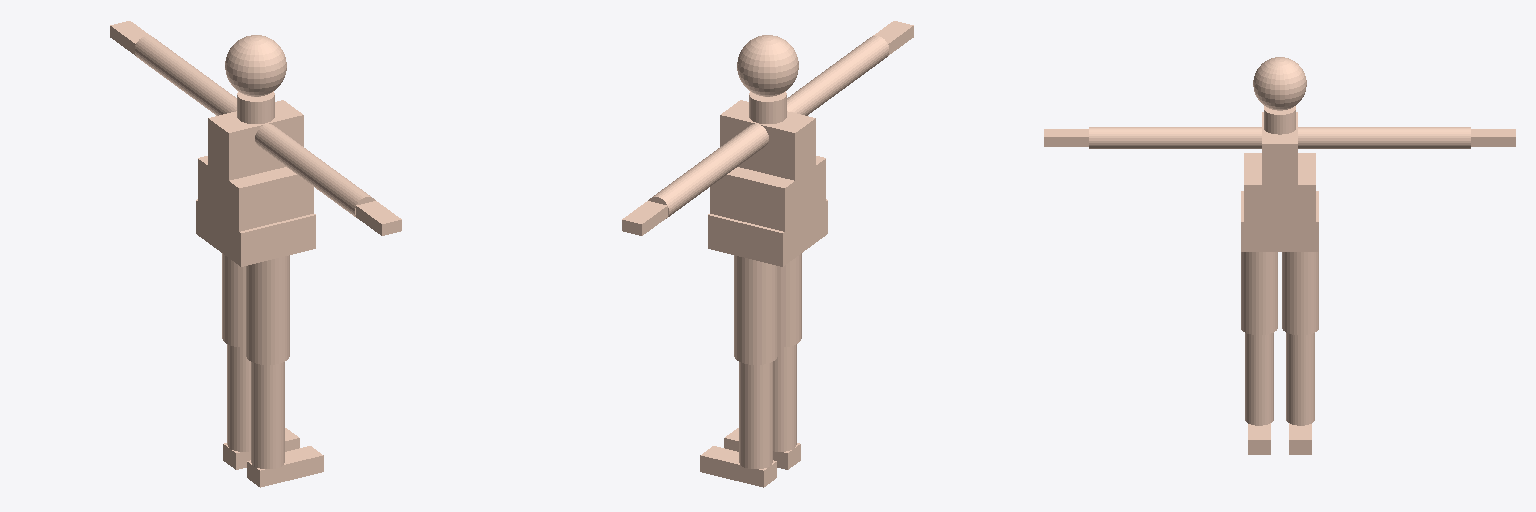
--- Facts derived from the render (not from the file) ---
Views: 3 orthographic renders of the robot side by side, from view 1: azimuth 30°, elevation 25°; view 2: azimuth 150°, elevation 25°; view 3: azimuth 270°, elevation 25°.
Model HumanModel with 93 links and 92 joints (44 revolute, 48 fixed), rooted at Pelvis, posed every joint at zero.
Links seen in each view (by area): view 1: LowerTrunk, RightUpperLeg, Pelvis, UpperTrunk, RightLowerLeg, Head, LeftLowerLeg, LeftUpperLeg, RightFoot, LeftUpperArm, RightUpperArm, RightForeArm (+6 smaller); view 2: LowerTrunk, LeftUpperLeg, Pelvis, UpperTrunk, LeftLowerLeg, Head, RightLowerLeg, RightUpperLeg, LeftFoot, RightUpperArm, LeftUpperArm, LeftForeArm (+6 smaller); view 3: LowerTrunk, RightUpperLeg, LeftUpperLeg, RightLowerLeg, LeftLowerLeg, Pelvis, Head, UpperTrunk, RightUpperArm, LeftUpperArm, RightForeArm, LeftForeArm (+5 smaller).
Link boxes in pixels (x1,y1,x2,y2): LowerTrunk: (198, 156, 313, 231); RightUpperLeg: (246, 255, 289, 364); Pelvis: (196, 199, 315, 266); UpperTrunk: (208, 100, 303, 180); RightLowerLeg: (251, 362, 284, 468); Head: (225, 35, 286, 96); LeftLowerLeg: (227, 344, 250, 451); LeftUpperLeg: (222, 253, 245, 347); RightFoot: (247, 446, 322, 487); LeftUpperArm: (169, 61, 229, 115); RightUpperArm: (276, 139, 336, 191); RightForeArm: (320, 171, 375, 218); LowerTrunk: (710, 156, 825, 231); LeftUpperLeg: (734, 255, 777, 364); Pelvis: (708, 199, 827, 266); UpperTrunk: (720, 100, 815, 180); LeftLowerLeg: (739, 362, 772, 468); Head: (737, 35, 798, 96); RightLowerLeg: (773, 344, 796, 451); RightUpperLeg: (778, 253, 801, 347); LeftFoot: (701, 446, 776, 487); RightUpperArm: (794, 61, 854, 115); LeftUpperArm: (687, 139, 747, 191); LeftForeArm: (648, 171, 703, 218); LowerTrunk: (1244, 153, 1315, 221); RightUpperLeg: (1241, 252, 1277, 334); LeftUpperLeg: (1282, 252, 1318, 334); RightLowerLeg: (1245, 333, 1273, 425); LeftLowerLeg: (1286, 333, 1314, 425); Pelvis: (1241, 191, 1318, 251); Head: (1253, 57, 1306, 110); UpperTrunk: (1262, 112, 1297, 184); RightUpperArm: (1150, 127, 1225, 148); LeftUpperArm: (1334, 127, 1409, 148); RightForeArm: (1089, 127, 1149, 148); LeftForeArm: (1410, 127, 1470, 148).
Bounding box of the posed robot: 0.3458 × 1.88 × 1.71 m (x, y, z).
Geometry: primitives only (box / cylinder / sphere), no mesh files.

robot.urdf — HumanModel:
<?xml version='1.0' encoding='UTF-8'?>
<robot name="HumanModel">
  <link name="Pelvis">
    <inertial>
      <origin xyz="0.0 0.0 0.0" rpy="0.0 0.0 0.0"/>
      <mass value="11.3568"/>
      <inertia ixx="0.10967187230999999" ixy="0.0" ixz="0.0" iyy="0.10085187621599999" iyz="0.0" izz="0.179171996094"/>
    </inertial>
    <visual>
      <geometry>
        <box size="0.3     0.31515 0.1287 "/>
      </geometry>
      <material name="color"/>
      <origin xyz="0.0 0.0 0.0" rpy="0.0 0.0 0.0"/>
    </visual>
    <collision>
      <geometry>
        <box size="0.3     0.31515 0.1287 "/>
      </geometry>
      <origin xyz="0.0 0.0 0.0" rpy="0.0 0.0 0.0"/>
    </collision>
  </link>
  <link name="LowerTrunk_f1">
    <inertial>
      <origin xyz="0.0 0.0 0.0" rpy="0.0 0.0 0.0"/>
      <mass value="1e-05"/>
      <inertia ixx="0.0" ixy="0.0" ixz="0.0" iyy="0.0" iyz="0.0" izz="0.0"/>
    </inertial>
  </link>
  <link name="LowerTrunk">
    <inertial>
      <origin xyz="0.0 0.0 0.0825" rpy="0.0 0.0 0.0"/>
      <mass value="14.8704"/>
      <inertia ixx="0.135880027272" ixy="0.0" ixz="0.0" iyy="0.14526522" iyz="0.0" izz="0.21367080727199997"/>
    </inertial>
    <visual>
      <geometry>
        <box size="0.3    0.2871 0.165 "/>
      </geometry>
      <material name="color"/>
      <origin xyz="0.0 0.0 0.0825" rpy="0.0 0.0 0.0"/>
    </visual>
    <collision>
      <geometry>
        <box size="0.3    0.2871 0.165 "/>
      </geometry>
      <origin xyz="0.0 0.0 0.0825" rpy="0.0 0.0 0.0"/>
    </collision>
  </link>
  <link name="UpperTrunk_f1">
    <inertial>
      <origin xyz="0.0 0.0 0.0" rpy="0.0 0.0 0.0"/>
      <mass value="1e-05"/>
      <inertia ixx="0.0" ixy="0.0" ixz="0.0" iyy="0.0" iyz="0.0" izz="0.0"/>
    </inertial>
  </link>
  <link name="UpperTrunk_f2">
    <inertial>
      <origin xyz="0.0 0.0 0.0" rpy="0.0 0.0 0.0"/>
      <mass value="1e-05"/>
      <inertia ixx="0.0" ixy="0.0" ixz="0.0" iyy="0.0" iyz="0.0" izz="0.0"/>
    </inertial>
  </link>
  <link name="UpperTrunk">
    <inertial>
      <origin xyz="0.0 0.0 0.09075" rpy="0.0 0.0 0.0"/>
      <mass value="5.0207999999999995"/>
      <inertia ixx="0.022273211245999996" ixy="0.0" ixz="0.0" iyy="0.05143903739999999" iyz="0.0" izz="0.04614617384599999"/>
    </inertial>
    <visual>
      <geometry>
        <box size="0.3     0.14245 0.1815 "/>
      </geometry>
      <material name="color"/>
      <origin xyz="0.0 0.0 0.09075" rpy="0.0 0.0 0.0"/>
    </visual>
    <collision>
      <geometry>
        <box size="0.3     0.14245 0.1815 "/>
      </geometry>
      <origin xyz="0.0 0.0 0.09075" rpy="0.0 0.0 0.0"/>
    </collision>
  </link>
  <link name="RightShoulder">
    <inertial>
      <origin xyz="0.0 -0.071225 0.0" rpy="1.5708 0.0 0.0"/>
      <mass value="5.0207999999999995"/>
      <inertia ixx="0.011031953845999998" ixy="0.0" ixz="0.0" iyy="0.011031953845999998" iyz="0.0" izz="0.01"/>
    </inertial>
    <visual>
      <geometry>
        <cylinder radius="0.045" length="0.14245"/>
      </geometry>
      <material name="color"/>
      <origin xyz="0.0 -0.071225 0.0" rpy="1.5708 0.0 0.0"/>
    </visual>
    <collision>
      <geometry>
        <cylinder radius="0.045" length="0.14245"/>
      </geometry>
      <origin xyz="0.0 -0.071225 0.0" rpy="1.5708 0.0 0.0"/>
    </collision>
  </link>
  <link name="LeftShoulder">
    <inertial>
      <origin xyz="0.0 0.071225 0.0" rpy="1.5708 0.0 0.0"/>
      <mass value="5.0207999999999995"/>
      <inertia ixx="0.011031953845999998" ixy="0.0" ixz="0.0" iyy="0.011031953845999998" iyz="0.0" izz="0.01"/>
    </inertial>
    <visual>
      <geometry>
        <cylinder radius="0.045" length="0.14245"/>
      </geometry>
      <material name="color"/>
      <origin xyz="0.0 0.071225 0.0" rpy="1.5708 0.0 0.0"/>
    </visual>
    <collision>
      <geometry>
        <cylinder radius="0.045" length="0.14245"/>
      </geometry>
      <origin xyz="0.0 0.071225 0.0" rpy="1.5708 0.0 0.0"/>
    </collision>
  </link>
  <link name="Neck_f1">
    <inertial>
      <origin xyz="0.0 0.0 0.0" rpy="0.0 0.0 0.0"/>
      <mass value="1e-05"/>
      <inertia ixx="0.0" ixy="0.0" ixz="0.0" iyy="0.0" iyz="0.0" izz="0.0"/>
    </inertial>
  </link>
  <link name="Neck_f2">
    <inertial>
      <origin xyz="0.0 0.0 0.0" rpy="0.0 0.0 0.0"/>
      <mass value="1e-05"/>
      <inertia ixx="0.0" ixy="0.0" ixz="0.0" iyy="0.0" iyz="0.0" izz="0.0"/>
    </inertial>
  </link>
  <link name="Neck">
    <inertial>
      <origin xyz="0.0 0.0 0.042899999999999994" rpy="0.0 0.0 0.0"/>
      <mass value="1.8624"/>
      <inertia ixx="0.01" ixy="0.0" ixz="0.0" iyy="0.01" iyz="0.0" izz="0.01"/>
    </inertial>
    <visual>
      <geometry>
        <cylinder radius="0.065" length="0.08579999999999999"/>
      </geometry>
      <material name="color"/>
      <origin xyz="0.0 0.0 0.042899999999999994" rpy="0.0 0.0 0.0"/>
    </visual>
    <collision>
      <geometry>
        <cylinder radius="0.065" length="0.08579999999999999"/>
      </geometry>
      <origin xyz="0.0 0.0 0.042899999999999994" rpy="0.0 0.0 0.0"/>
    </collision>
  </link>
  <link name="Head_f1">
    <inertial>
      <origin xyz="0.0 0.0 0.0" rpy="0.0 0.0 0.0"/>
      <mass value="1e-05"/>
      <inertia ixx="0.0" ixy="0.0" ixz="0.0" iyy="0.0" iyz="0.0" izz="0.0"/>
    </inertial>
  </link>
  <link name="Head">
    <inertial>
      <origin xyz="0.0 0.0 0.10725" rpy="0.0 0.0 0.0"/>
      <mass value="4.6752"/>
      <inertia ixx="0.02151071208" ixy="0.0" ixz="0.0" iyy="0.02151071208" iyz="0.0" izz="0.02151071208"/>
    </inertial>
    <visual>
      <geometry>
        <sphere radius="0.10725"/>
      </geometry>
      <material name="color"/>
      <origin xyz="0.0 0.0 0.10725" rpy="0.0 0.0 0.0"/>
    </visual>
    <collision>
      <geometry>
        <sphere radius="0.10725"/>
      </geometry>
      <origin xyz="0.0 0.0 0.10725" rpy="0.0 0.0 0.0"/>
    </collision>
  </link>
  <link name="RightShoulder_f1">
    <inertial>
      <origin xyz="0.0 0.0 0.0" rpy="0.0 0.0 0.0"/>
      <mass value="1e-05"/>
      <inertia ixx="0.0" ixy="0.0" ixz="0.0" iyy="0.0" iyz="0.0" izz="0.0"/>
    </inertial>
  </link>
  <link name="RightShoulder_f2">
    <inertial>
      <origin xyz="0.0 0.0 0.0" rpy="0.0 0.0 0.0"/>
      <mass value="1e-05"/>
      <inertia ixx="0.0" ixy="0.0" ixz="0.0" iyy="0.0" iyz="0.0" izz="0.0"/>
    </inertial>
  </link>
  <link name="RightUpperArm">
    <inertial>
      <origin xyz="0.0 -0.15345 0.0" rpy="1.5708 0.0 0.0"/>
      <mass value="2.5248"/>
      <inertia ixx="0.021095253143999997" ixy="0.0" ixz="0.0" iyy="0.021095253143999997" iyz="0.0" izz="0.01"/>
    </inertial>
    <visual>
      <geometry>
        <cylinder radius="0.045" length="0.3069"/>
      </geometry>
      <material name="color"/>
      <origin xyz="0.0 -0.15345 0.0" rpy="1.5708 0.0 0.0"/>
    </visual>
    <collision>
      <geometry>
        <cylinder radius="0.045" length="0.3069"/>
      </geometry>
      <origin xyz="0.0 -0.15345 0.0" rpy="1.5708 0.0 0.0"/>
    </collision>
  </link>
  <link name="RightForeArm_f1">
    <inertial>
      <origin xyz="0.0 0.0 0.0" rpy="0.0 0.0 0.0"/>
      <mass value="1e-05"/>
      <inertia ixx="0.0" ixy="0.0" ixz="0.0" iyy="0.0" iyz="0.0" izz="0.0"/>
    </inertial>
  </link>
  <link name="RightForeArm">
    <inertial>
      <origin xyz="0.0 -0.12044999999999999 0.0" rpy="1.5708 0.0 0.0"/>
      <mass value="1.44"/>
      <inertia ixx="0.01" ixy="0.0" ixz="0.0" iyy="0.01" iyz="0.0" izz="0.01"/>
    </inertial>
    <visual>
      <geometry>
        <cylinder radius="0.045" length="0.24089999999999998"/>
      </geometry>
      <material name="color"/>
      <origin xyz="0.0 -0.12044999999999999 0.0" rpy="1.5708 0.0 0.0"/>
    </visual>
    <collision>
      <geometry>
        <cylinder radius="0.045" length="0.24089999999999998"/>
      </geometry>
      <origin xyz="0.0 -0.12044999999999999 0.0" rpy="1.5708 0.0 0.0"/>
    </collision>
  </link>
  <link name="RightHand_f1">
    <inertial>
      <origin xyz="0.0 0.0 0.0" rpy="0.0 0.0 0.0"/>
      <mass value="1e-05"/>
      <inertia ixx="0.0" ixy="0.0" ixz="0.0" iyy="0.0" iyz="0.0" izz="0.0"/>
    </inertial>
  </link>
  <link name="RightHand">
    <inertial>
      <origin xyz="0.0 -0.0891 0.0" rpy="0.0 0.0 0.0"/>
      <mass value="0.5664"/>
      <inertia ixx="0.01" ixy="0.0" ixz="0.0" iyy="0.01" iyz="0.0" izz="0.01"/>
    </inertial>
    <visual>
      <geometry>
        <box size="0.08   0.1782 0.045 "/>
      </geometry>
      <material name="color"/>
      <origin xyz="0.0 -0.0891 0.0" rpy="0.0 0.0 0.0"/>
    </visual>
    <collision>
      <geometry>
        <box size="0.08   0.1782 0.045 "/>
      </geometry>
      <origin xyz="0.0 -0.0891 0.0" rpy="0.0 0.0 0.0"/>
    </collision>
  </link>
  <link name="RightHandCOM">
    <inertial>
      <origin xyz="0.0 0.0 0.0" rpy="0.0 0.0 0.0"/>
      <mass value="1e-05"/>
      <inertia ixx="0.0" ixy="0.0" ixz="0.0" iyy="0.0" iyz="0.0" izz="0.0"/>
    </inertial>
    <visual>
      <geometry>
        <box size="0. 0. 0."/>
      </geometry>
      <material name="color"/>
      <origin xyz="0.0 0.0 0.0" rpy="0.0 0.0 0.0"/>
    </visual>
  </link>
  <link name="LeftShoulder_f1">
    <inertial>
      <origin xyz="0.0 0.0 0.0" rpy="0.0 0.0 0.0"/>
      <mass value="1e-05"/>
      <inertia ixx="0.0" ixy="0.0" ixz="0.0" iyy="0.0" iyz="0.0" izz="0.0"/>
    </inertial>
  </link>
  <link name="LeftShoulder_f2">
    <inertial>
      <origin xyz="0.0 0.0 0.0" rpy="0.0 0.0 0.0"/>
      <mass value="1e-05"/>
      <inertia ixx="0.0" ixy="0.0" ixz="0.0" iyy="0.0" iyz="0.0" izz="0.0"/>
    </inertial>
  </link>
  <link name="LeftUpperArm">
    <inertial>
      <origin xyz="0.0 0.15345 0.0" rpy="1.5708 0.0 0.0"/>
      <mass value="2.5248"/>
      <inertia ixx="0.021095253143999997" ixy="0.0" ixz="0.0" iyy="0.021095253143999997" iyz="0.0" izz="0.01"/>
    </inertial>
    <visual>
      <geometry>
        <cylinder radius="0.045" length="0.3069"/>
      </geometry>
      <material name="color"/>
      <origin xyz="0.0 0.15345 0.0" rpy="1.5708 0.0 0.0"/>
    </visual>
    <collision>
      <geometry>
        <cylinder radius="0.045" length="0.3069"/>
      </geometry>
      <origin xyz="0.0 0.15345 0.0" rpy="1.5708 0.0 0.0"/>
    </collision>
  </link>
  <link name="LeftForeArm_f1">
    <inertial>
      <origin xyz="0.0 0.0 0.0" rpy="0.0 0.0 0.0"/>
      <mass value="1e-05"/>
      <inertia ixx="0.0" ixy="0.0" ixz="0.0" iyy="0.0" iyz="0.0" izz="0.0"/>
    </inertial>
  </link>
  <link name="LeftForeArm">
    <inertial>
      <origin xyz="0.0 0.12044999999999999 0.0" rpy="1.5708 0.0 0.0"/>
      <mass value="1.44"/>
      <inertia ixx="0.01" ixy="0.0" ixz="0.0" iyy="0.01" iyz="0.0" izz="0.01"/>
    </inertial>
    <visual>
      <geometry>
        <cylinder radius="0.045" length="0.24089999999999998"/>
      </geometry>
      <material name="color"/>
      <origin xyz="0.0 0.12044999999999999 0.0" rpy="1.5708 0.0 0.0"/>
    </visual>
    <collision>
      <geometry>
        <cylinder radius="0.045" length="0.24089999999999998"/>
      </geometry>
      <origin xyz="0.0 0.12044999999999999 0.0" rpy="1.5708 0.0 0.0"/>
    </collision>
  </link>
  <link name="LeftHand_f1">
    <inertial>
      <origin xyz="0.0 0.0 0.0" rpy="0.0 0.0 0.0"/>
      <mass value="1e-05"/>
      <inertia ixx="0.0" ixy="0.0" ixz="0.0" iyy="0.0" iyz="0.0" izz="0.0"/>
    </inertial>
  </link>
  <link name="LeftHand">
    <inertial>
      <origin xyz="0.0 0.0891 0.0" rpy="0.0 0.0 0.0"/>
      <mass value="0.5664"/>
      <inertia ixx="0.01" ixy="0.0" ixz="0.0" iyy="0.01" iyz="0.0" izz="0.01"/>
    </inertial>
    <visual>
      <geometry>
        <box size="0.08   0.1782 0.045 "/>
      </geometry>
      <material name="color"/>
      <origin xyz="0.0 0.0891 0.0" rpy="0.0 0.0 0.0"/>
    </visual>
    <collision>
      <geometry>
        <box size="0.08   0.1782 0.045 "/>
      </geometry>
      <origin xyz="0.0 0.0891 0.0" rpy="0.0 0.0 0.0"/>
    </collision>
  </link>
  <link name="LeftHandCOM">
    <inertial>
      <origin xyz="0.0 0.0 0.0" rpy="0.0 0.0 0.0"/>
      <mass value="1e-05"/>
      <inertia ixx="0.0" ixy="0.0" ixz="0.0" iyy="0.0" iyz="0.0" izz="0.0"/>
    </inertial>
    <visual>
      <geometry>
        <box size="0. 0. 0."/>
      </geometry>
      <material name="color"/>
      <origin xyz="0.0 0.0 0.0" rpy="0.0 0.0 0.0"/>
    </visual>
  </link>
  <link name="RightUpperLeg_f1">
    <inertial>
      <origin xyz="0.0 0.0 0.0" rpy="0.0 0.0 0.0"/>
      <mass value="1e-05"/>
      <inertia ixx="0.0" ixy="0.0" ixz="0.0" iyy="0.0" iyz="0.0" izz="0.0"/>
    </inertial>
  </link>
  <link name="RightUpperLeg_f2">
    <inertial>
      <origin xyz="0.0 0.0 0.0" rpy="0.0 0.0 0.0"/>
      <mass value="1e-05"/>
      <inertia ixx="0.0" ixy="0.0" ixz="0.0" iyy="0.0" iyz="0.0" izz="0.0"/>
    </inertial>
  </link>
  <link name="RightUpperLeg">
    <inertial>
      <origin xyz="0.0 0.0 -0.202125" rpy="0.0 0.0 0.0"/>
      <mass value="13.8912"/>
      <inertia ixx="0.20870724914999997" ixy="0.0" ixz="0.0" iyy="0.20870724914999997" iyz="0.0" izz="0.039069"/>
    </inertial>
    <visual>
      <geometry>
        <cylinder radius="0.075" length="0.40425"/>
      </geometry>
      <material name="color"/>
      <origin xyz="0.0 0.0 -0.202125" rpy="0.0 0.0 0.0"/>
    </visual>
    <collision>
      <geometry>
        <cylinder radius="0.075" length="0.40425"/>
      </geometry>
      <origin xyz="0.0 0.0 -0.202125" rpy="0.0 0.0 0.0"/>
    </collision>
  </link>
  <link name="RightLowerLeg_f1">
    <inertial>
      <origin xyz="0.0 0.0 0.0" rpy="0.0 0.0 0.0"/>
      <mass value="1e-05"/>
      <inertia ixx="0.0" ixy="0.0" ixz="0.0" iyy="0.0" iyz="0.0" izz="0.0"/>
    </inertial>
  </link>
  <link name="RightLowerLeg">
    <inertial>
      <origin xyz="0.0 0.0 -0.20295" rpy="0.0 0.0 0.0"/>
      <mass value="4.3872"/>
      <inertia ixx="0.063860653536" ixy="0.0" ixz="0.0" iyy="0.063860653536" iyz="0.0" izz="0.01"/>
    </inertial>
    <visual>
      <geometry>
        <cylinder radius="0.0575" length="0.4059"/>
      </geometry>
      <material name="color"/>
      <origin xyz="0.0 0.0 -0.20295" rpy="0.0 0.0 0.0"/>
    </visual>
    <collision>
      <geometry>
        <cylinder radius="0.0575" length="0.4059"/>
      </geometry>
      <origin xyz="0.0 0.0 -0.20295" rpy="0.0 0.0 0.0"/>
    </collision>
  </link>
  <link name="RightFoot_f1">
    <inertial>
      <origin xyz="0.0 0.0 0.0" rpy="0.0 0.0 0.0"/>
      <mass value="1e-05"/>
      <inertia ixx="0.0" ixy="0.0" ixz="0.0" iyy="0.0" iyz="0.0" izz="0.0"/>
    </inertial>
  </link>
  <link name="RightFoot_f2">
    <inertial>
      <origin xyz="0.0 0.0 0.0" rpy="0.0 0.0 0.0"/>
      <mass value="1e-05"/>
      <inertia ixx="0.0" ixy="0.0" ixz="0.0" iyy="0.0" iyz="0.0" izz="0.0"/>
    </inertial>
  </link>
  <link name="RightFoot">
    <inertial>
      <origin xyz="0.06789999999999999 0.0 -0.032174999999999995" rpy="0.0 0.0 0.0"/>
      <mass value="1.264032"/>
      <inertia ixx="0.01" ixy="0.0" ixz="0.0" iyy="0.01" iyz="0.0" izz="0.01"/>
    </inertial>
    <visual>
      <geometry>
        <box size="0.2508  0.09075 0.06435"/>
      </geometry>
      <material name="color"/>
      <origin xyz="0.06789999999999999 0.0 -0.032174999999999995" rpy="0.0 0.0 0.0"/>
    </visual>
    <collision>
      <geometry>
        <box size="0.2508  0.09075 0.06435"/>
      </geometry>
      <origin xyz="0.06789999999999999 0.0 -0.032174999999999995" rpy="0.0 0.0 0.0"/>
    </collision>
  </link>
  <link name="RightToe">
    <inertial>
      <origin xyz="0.0 0.0 0.0" rpy="0.0 0.0 0.0"/>
      <mass value="0.012768"/>
      <inertia ixx="0.01" ixy="0.0" ixz="0.0" iyy="0.01" iyz="0.0" izz="0.01"/>
    </inertial>
    <visual>
      <geometry>
        <box size="0.002508 0.09075  0.06435 "/>
      </geometry>
      <material name="color"/>
      <origin xyz="0.0 0.0 0.0" rpy="0.0 0.0 0.0"/>
    </visual>
    <collision>
      <geometry>
        <box size="0.002508 0.09075  0.06435 "/>
      </geometry>
      <origin xyz="0.0 0.0 0.0" rpy="0.0 0.0 0.0"/>
    </collision>
  </link>
  <link name="RightFTSensor">
    <inertial>
      <origin xyz="0.0 0.0 0.0" rpy="0.0 0.0 0.0"/>
      <mass value="1e-05"/>
      <inertia ixx="0.0" ixy="0.0" ixz="0.0" iyy="0.0" iyz="0.0" izz="0.0"/>
    </inertial>
    <visual>
      <geometry>
        <box size="0. 0. 0."/>
      </geometry>
      <material name="color"/>
      <origin xyz="0.0 0.0 0.0" rpy="0.0 0.0 0.0"/>
    </visual>
  </link>
  <link name="LeftUpperLeg_f1">
    <inertial>
      <origin xyz="0.0 0.0 0.0" rpy="0.0 0.0 0.0"/>
      <mass value="1e-05"/>
      <inertia ixx="0.0" ixy="0.0" ixz="0.0" iyy="0.0" iyz="0.0" izz="0.0"/>
    </inertial>
  </link>
  <link name="LeftUpperLeg_f2">
    <inertial>
      <origin xyz="0.0 0.0 0.0" rpy="0.0 0.0 0.0"/>
      <mass value="1e-05"/>
      <inertia ixx="0.0" ixy="0.0" ixz="0.0" iyy="0.0" iyz="0.0" izz="0.0"/>
    </inertial>
  </link>
  <link name="LeftUpperLeg">
    <inertial>
      <origin xyz="0.0 0.0 -0.202125" rpy="0.0 0.0 0.0"/>
      <mass value="13.8912"/>
      <inertia ixx="0.20870724914999997" ixy="0.0" ixz="0.0" iyy="0.20870724914999997" iyz="0.0" izz="0.039069"/>
    </inertial>
    <visual>
      <geometry>
        <cylinder radius="0.075" length="0.40425"/>
      </geometry>
      <material name="color"/>
      <origin xyz="0.0 0.0 -0.202125" rpy="0.0 0.0 0.0"/>
    </visual>
    <collision>
      <geometry>
        <cylinder radius="0.075" length="0.40425"/>
      </geometry>
      <origin xyz="0.0 0.0 -0.202125" rpy="0.0 0.0 0.0"/>
    </collision>
  </link>
  <link name="LeftLowerLeg_f1">
    <inertial>
      <origin xyz="0.0 0.0 0.0" rpy="0.0 0.0 0.0"/>
      <mass value="1e-05"/>
      <inertia ixx="0.0" ixy="0.0" ixz="0.0" iyy="0.0" iyz="0.0" izz="0.0"/>
    </inertial>
  </link>
  <link name="LeftLowerLeg">
    <inertial>
      <origin xyz="0.0 0.0 -0.20295" rpy="0.0 0.0 0.0"/>
      <mass value="4.3872"/>
      <inertia ixx="0.063860653536" ixy="0.0" ixz="0.0" iyy="0.063860653536" iyz="0.0" izz="0.01"/>
    </inertial>
    <visual>
      <geometry>
        <cylinder radius="0.0575" length="0.4059"/>
      </geometry>
      <material name="color"/>
      <origin xyz="0.0 0.0 -0.20295" rpy="0.0 0.0 0.0"/>
    </visual>
    <collision>
      <geometry>
        <cylinder radius="0.0575" length="0.4059"/>
      </geometry>
      <origin xyz="0.0 0.0 -0.20295" rpy="0.0 0.0 0.0"/>
    </collision>
  </link>
  <link name="LeftFoot_f1">
    <inertial>
      <origin xyz="0.0 0.0 0.0" rpy="0.0 0.0 0.0"/>
      <mass value="1e-05"/>
      <inertia ixx="0.0" ixy="0.0" ixz="0.0" iyy="0.0" iyz="0.0" izz="0.0"/>
    </inertial>
  </link>
  <link name="LeftFoot_f2">
    <inertial>
      <origin xyz="0.0 0.0 0.0" rpy="0.0 0.0 0.0"/>
      <mass value="1e-05"/>
      <inertia ixx="0.0" ixy="0.0" ixz="0.0" iyy="0.0" iyz="0.0" izz="0.0"/>
    </inertial>
  </link>
  <link name="LeftFoot">
    <inertial>
      <origin xyz="0.06789999999999999 0.0 -0.032174999999999995" rpy="0.0 0.0 0.0"/>
      <mass value="1.264032"/>
      <inertia ixx="0.01" ixy="0.0" ixz="0.0" iyy="0.01" iyz="0.0" izz="0.01"/>
    </inertial>
    <visual>
      <geometry>
        <box size="0.2508  0.09075 0.06435"/>
      </geometry>
      <material name="color"/>
      <origin xyz="0.06789999999999999 0.0 -0.032174999999999995" rpy="0.0 0.0 0.0"/>
    </visual>
    <collision>
      <geometry>
        <box size="0.2508  0.09075 0.06435"/>
      </geometry>
      <origin xyz="0.06789999999999999 0.0 -0.032174999999999995" rpy="0.0 0.0 0.0"/>
    </collision>
  </link>
  <link name="LeftToe">
    <inertial>
      <origin xyz="0.0 0.0 0.0" rpy="0.0 0.0 0.0"/>
      <mass value="0.012768"/>
      <inertia ixx="0.01" ixy="0.0" ixz="0.0" iyy="0.01" iyz="0.0" izz="0.01"/>
    </inertial>
    <visual>
      <geometry>
        <box size="0.002508 0.09075  0.06435 "/>
      </geometry>
      <material name="color"/>
      <origin xyz="0.0 0.0 0.0" rpy="0.0 0.0 0.0"/>
    </visual>
    <collision>
      <geometry>
        <box size="0.002508 0.09075  0.06435 "/>
      </geometry>
      <origin xyz="0.0 0.0 0.0" rpy="0.0 0.0 0.0"/>
    </collision>
  </link>
  <link name="LeftFTSensor">
    <inertial>
      <origin xyz="0.0 0.0 0.0" rpy="0.0 0.0 0.0"/>
      <mass value="1e-05"/>
      <inertia ixx="0.0" ixy="0.0" ixz="0.0" iyy="0.0" iyz="0.0" izz="0.0"/>
    </inertial>
    <visual>
      <geometry>
        <box size="0. 0. 0."/>
      </geometry>
      <material name="color"/>
      <origin xyz="0.0 0.0 0.0" rpy="0.0 0.0 0.0"/>
    </visual>
  </link>
  <link name="BicBrac_RUA">
    <inertial>
      <origin xyz="0.0 0.0 0.0" rpy="0.0 0.0 0.0"/>
      <mass value="0.0"/>
      <inertia ixx="0.0" ixy="0.0" ixz="0.0" iyy="0.0" iyz="0.0" izz="0.0"/>
    </inertial>
  </link>
  <link name="BicBrac_RFA">
    <inertial>
      <origin xyz="0.0 0.0 0.0" rpy="0.0 0.0 0.0"/>
      <mass value="0.0"/>
      <inertia ixx="0.0" ixy="0.0" ixz="0.0" iyy="0.0" iyz="0.0" izz="0.0"/>
    </inertial>
  </link>
  <link name="TricBrac_RUA">
    <inertial>
      <origin xyz="0.0 0.0 0.0" rpy="0.0 0.0 0.0"/>
      <mass value="0.0"/>
      <inertia ixx="0.0" ixy="0.0" ixz="0.0" iyy="0.0" iyz="0.0" izz="0.0"/>
    </inertial>
  </link>
  <link name="TricBrac_RFA">
    <inertial>
      <origin xyz="0.0 0.0 0.0" rpy="0.0 0.0 0.0"/>
      <mass value="0.0"/>
      <inertia ixx="0.0" ixy="0.0" ixz="0.0" iyy="0.0" iyz="0.0" izz="0.0"/>
    </inertial>
  </link>
  <link name="FlexCarp_RFA">
    <inertial>
      <origin xyz="0.0 0.0 0.0" rpy="0.0 0.0 0.0"/>
      <mass value="0.0"/>
      <inertia ixx="0.0" ixy="0.0" ixz="0.0" iyy="0.0" iyz="0.0" izz="0.0"/>
    </inertial>
  </link>
  <link name="FlexCarp_RH">
    <inertial>
      <origin xyz="0.0 0.0 0.0" rpy="0.0 0.0 0.0"/>
      <mass value="0.0"/>
      <inertia ixx="0.0" ixy="0.0" ixz="0.0" iyy="0.0" iyz="0.0" izz="0.0"/>
    </inertial>
  </link>
  <link name="ExtCarp_RFA">
    <inertial>
      <origin xyz="0.0 0.0 0.0" rpy="0.0 0.0 0.0"/>
      <mass value="0.0"/>
      <inertia ixx="0.0" ixy="0.0" ixz="0.0" iyy="0.0" iyz="0.0" izz="0.0"/>
    </inertial>
  </link>
  <link name="ExtCarp_RH">
    <inertial>
      <origin xyz="0.0 0.0 0.0" rpy="0.0 0.0 0.0"/>
      <mass value="0.0"/>
      <inertia ixx="0.0" ixy="0.0" ixz="0.0" iyy="0.0" iyz="0.0" izz="0.0"/>
    </inertial>
  </link>
  <link name="BicBrac_LUA">
    <inertial>
      <origin xyz="0.0 0.0 0.0" rpy="0.0 0.0 0.0"/>
      <mass value="0.0"/>
      <inertia ixx="0.0" ixy="0.0" ixz="0.0" iyy="0.0" iyz="0.0" izz="0.0"/>
    </inertial>
  </link>
  <link name="BicBrac_LFA">
    <inertial>
      <origin xyz="0.0 0.0 0.0" rpy="0.0 0.0 0.0"/>
      <mass value="0.0"/>
      <inertia ixx="0.0" ixy="0.0" ixz="0.0" iyy="0.0" iyz="0.0" izz="0.0"/>
    </inertial>
  </link>
  <link name="TricBrac_LUA">
    <inertial>
      <origin xyz="0.0 0.0 0.0" rpy="0.0 0.0 0.0"/>
      <mass value="0.0"/>
      <inertia ixx="0.0" ixy="0.0" ixz="0.0" iyy="0.0" iyz="0.0" izz="0.0"/>
    </inertial>
  </link>
  <link name="TricBrac_LFA">
    <inertial>
      <origin xyz="0.0 0.0 0.0" rpy="0.0 0.0 0.0"/>
      <mass value="0.0"/>
      <inertia ixx="0.0" ixy="0.0" ixz="0.0" iyy="0.0" iyz="0.0" izz="0.0"/>
    </inertial>
  </link>
  <link name="FlexCarp_LFA">
    <inertial>
      <origin xyz="0.0 0.0 0.0" rpy="0.0 0.0 0.0"/>
      <mass value="0.0"/>
      <inertia ixx="0.0" ixy="0.0" ixz="0.0" iyy="0.0" iyz="0.0" izz="0.0"/>
    </inertial>
  </link>
  <link name="FlexCarp_LH">
    <inertial>
      <origin xyz="0.0 0.0 0.0" rpy="0.0 0.0 0.0"/>
      <mass value="0.0"/>
      <inertia ixx="0.0" ixy="0.0" ixz="0.0" iyy="0.0" iyz="0.0" izz="0.0"/>
    </inertial>
  </link>
  <link name="ExtCarp_LFA">
    <inertial>
      <origin xyz="0.0 0.0 0.0" rpy="0.0 0.0 0.0"/>
      <mass value="0.0"/>
      <inertia ixx="0.0" ixy="0.0" ixz="0.0" iyy="0.0" iyz="0.0" izz="0.0"/>
    </inertial>
  </link>
  <link name="ExtCarp_LH">
    <inertial>
      <origin xyz="0.0 0.0 0.0" rpy="0.0 0.0 0.0"/>
      <mass value="0.0"/>
      <inertia ixx="0.0" ixy="0.0" ixz="0.0" iyy="0.0" iyz="0.0" izz="0.0"/>
    </inertial>
  </link>
  <link name="RecAbd_RUT">
    <inertial>
      <origin xyz="0.0 0.0 0.0" rpy="0.0 0.0 0.0"/>
      <mass value="0.0"/>
      <inertia ixx="0.0" ixy="0.0" ixz="0.0" iyy="0.0" iyz="0.0" izz="0.0"/>
    </inertial>
  </link>
  <link name="RecAbd_RP">
    <inertial>
      <origin xyz="0.0 0.0 0.0" rpy="0.0 0.0 0.0"/>
      <mass value="0.0"/>
      <inertia ixx="0.0" ixy="0.0" ixz="0.0" iyy="0.0" iyz="0.0" izz="0.0"/>
    </inertial>
  </link>
  <link name="ErSpin_RUT">
    <inertial>
      <origin xyz="0.0 0.0 0.0" rpy="0.0 0.0 0.0"/>
      <mass value="0.0"/>
      <inertia ixx="0.0" ixy="0.0" ixz="0.0" iyy="0.0" iyz="0.0" izz="0.0"/>
    </inertial>
  </link>
  <link name="ErSpin_RP">
    <inertial>
      <origin xyz="0.0 0.0 0.0" rpy="0.0 0.0 0.0"/>
      <mass value="0.0"/>
      <inertia ixx="0.0" ixy="0.0" ixz="0.0" iyy="0.0" iyz="0.0" izz="0.0"/>
    </inertial>
  </link>
  <link name="RecAbd_LUT">
    <inertial>
      <origin xyz="0.0 0.0 0.0" rpy="0.0 0.0 0.0"/>
      <mass value="0.0"/>
      <inertia ixx="0.0" ixy="0.0" ixz="0.0" iyy="0.0" iyz="0.0" izz="0.0"/>
    </inertial>
  </link>
  <link name="RecAbd_LP">
    <inertial>
      <origin xyz="0.0 0.0 0.0" rpy="0.0 0.0 0.0"/>
      <mass value="0.0"/>
      <inertia ixx="0.0" ixy="0.0" ixz="0.0" iyy="0.0" iyz="0.0" izz="0.0"/>
    </inertial>
  </link>
  <link name="ErSpin_LUT">
    <inertial>
      <origin xyz="0.0 0.0 0.0" rpy="0.0 0.0 0.0"/>
      <mass value="0.0"/>
      <inertia ixx="0.0" ixy="0.0" ixz="0.0" iyy="0.0" iyz="0.0" izz="0.0"/>
    </inertial>
  </link>
  <link name="ErSpin_LP">
    <inertial>
      <origin xyz="0.0 0.0 0.0" rpy="0.0 0.0 0.0"/>
      <mass value="0.0"/>
      <inertia ixx="0.0" ixy="0.0" ixz="0.0" iyy="0.0" iyz="0.0" izz="0.0"/>
    </inertial>
  </link>
  <link name="RecFem_RLT">
    <inertial>
      <origin xyz="0.0 0.0 0.0" rpy="0.0 0.0 0.0"/>
      <mass value="0.0"/>
      <inertia ixx="0.0" ixy="0.0" ixz="0.0" iyy="0.0" iyz="0.0" izz="0.0"/>
    </inertial>
  </link>
  <link name="RecFem_RLL">
    <inertial>
      <origin xyz="0.0 0.0 0.0" rpy="0.0 0.0 0.0"/>
      <mass value="0.0"/>
      <inertia ixx="0.0" ixy="0.0" ixz="0.0" iyy="0.0" iyz="0.0" izz="0.0"/>
    </inertial>
  </link>
  <link name="BicFem_RUL">
    <inertial>
      <origin xyz="0.0 0.0 0.0" rpy="0.0 0.0 0.0"/>
      <mass value="0.0"/>
      <inertia ixx="0.0" ixy="0.0" ixz="0.0" iyy="0.0" iyz="0.0" izz="0.0"/>
    </inertial>
  </link>
  <link name="BicFem_RLL">
    <inertial>
      <origin xyz="0.0 0.0 0.0" rpy="0.0 0.0 0.0"/>
      <mass value="0.0"/>
      <inertia ixx="0.0" ixy="0.0" ixz="0.0" iyy="0.0" iyz="0.0" izz="0.0"/>
    </inertial>
  </link>
  <link name="RecFem_LLT">
    <inertial>
      <origin xyz="0.0 0.0 0.0" rpy="0.0 0.0 0.0"/>
      <mass value="0.0"/>
      <inertia ixx="0.0" ixy="0.0" ixz="0.0" iyy="0.0" iyz="0.0" izz="0.0"/>
    </inertial>
  </link>
  <link name="RecFem_LLL">
    <inertial>
      <origin xyz="0.0 0.0 0.0" rpy="0.0 0.0 0.0"/>
      <mass value="0.0"/>
      <inertia ixx="0.0" ixy="0.0" ixz="0.0" iyy="0.0" iyz="0.0" izz="0.0"/>
    </inertial>
  </link>
  <link name="BicFem_LUL">
    <inertial>
      <origin xyz="0.0 0.0 0.0" rpy="0.0 0.0 0.0"/>
      <mass value="0.0"/>
      <inertia ixx="0.0" ixy="0.0" ixz="0.0" iyy="0.0" iyz="0.0" izz="0.0"/>
    </inertial>
  </link>
  <link name="BicFem_LLL">
    <inertial>
      <origin xyz="0.0 0.0 0.0" rpy="0.0 0.0 0.0"/>
      <mass value="0.0"/>
      <inertia ixx="0.0" ixy="0.0" ixz="0.0" iyy="0.0" iyz="0.0" izz="0.0"/>
    </inertial>
  </link>
  <link name="TibAnt_RLL">
    <inertial>
      <origin xyz="0.0 0.0 0.0" rpy="0.0 0.0 0.0"/>
      <mass value="0.0"/>
      <inertia ixx="0.0" ixy="0.0" ixz="0.0" iyy="0.0" iyz="0.0" izz="0.0"/>
    </inertial>
  </link>
  <link name="TibAnt_RF">
    <inertial>
      <origin xyz="0.0 0.0 0.0" rpy="0.0 0.0 0.0"/>
      <mass value="0.0"/>
      <inertia ixx="0.0" ixy="0.0" ixz="0.0" iyy="0.0" iyz="0.0" izz="0.0"/>
    </inertial>
  </link>
  <link name="GasLat_RUL">
    <inertial>
      <origin xyz="0.0 0.0 0.0" rpy="0.0 0.0 0.0"/>
      <mass value="0.0"/>
      <inertia ixx="0.0" ixy="0.0" ixz="0.0" iyy="0.0" iyz="0.0" izz="0.0"/>
    </inertial>
  </link>
  <link name="GasLat_RF">
    <inertial>
      <origin xyz="0.0 0.0 0.0" rpy="0.0 0.0 0.0"/>
      <mass value="0.0"/>
      <inertia ixx="0.0" ixy="0.0" ixz="0.0" iyy="0.0" iyz="0.0" izz="0.0"/>
    </inertial>
  </link>
  <link name="GasMed_RUL">
    <inertial>
      <origin xyz="0.0 0.0 0.0" rpy="0.0 0.0 0.0"/>
      <mass value="0.0"/>
      <inertia ixx="0.0" ixy="0.0" ixz="0.0" iyy="0.0" iyz="0.0" izz="0.0"/>
    </inertial>
  </link>
  <link name="GasMed_RF">
    <inertial>
      <origin xyz="0.0 0.0 0.0" rpy="0.0 0.0 0.0"/>
      <mass value="0.0"/>
      <inertia ixx="0.0" ixy="0.0" ixz="0.0" iyy="0.0" iyz="0.0" izz="0.0"/>
    </inertial>
  </link>
  <link name="TibAnt_LLL">
    <inertial>
      <origin xyz="0.0 0.0 0.0" rpy="0.0 0.0 0.0"/>
      <mass value="0.0"/>
      <inertia ixx="0.0" ixy="0.0" ixz="0.0" iyy="0.0" iyz="0.0" izz="0.0"/>
    </inertial>
  </link>
  <link name="TibAnt_LF">
    <inertial>
      <origin xyz="0.0 0.0 0.0" rpy="0.0 0.0 0.0"/>
      <mass value="0.0"/>
      <inertia ixx="0.0" ixy="0.0" ixz="0.0" iyy="0.0" iyz="0.0" izz="0.0"/>
    </inertial>
  </link>
  <link name="GasLat_LUL">
    <inertial>
      <origin xyz="0.0 0.0 0.0" rpy="0.0 0.0 0.0"/>
      <mass value="0.0"/>
      <inertia ixx="0.0" ixy="0.0" ixz="0.0" iyy="0.0" iyz="0.0" izz="0.0"/>
    </inertial>
  </link>
  <link name="GasLat_LF">
    <inertial>
      <origin xyz="0.0 0.0 0.0" rpy="0.0 0.0 0.0"/>
      <mass value="0.0"/>
      <inertia ixx="0.0" ixy="0.0" ixz="0.0" iyy="0.0" iyz="0.0" izz="0.0"/>
    </inertial>
  </link>
  <link name="GasMed_LUL">
    <inertial>
      <origin xyz="0.0 0.0 0.0" rpy="0.0 0.0 0.0"/>
      <mass value="0.0"/>
      <inertia ixx="0.0" ixy="0.0" ixz="0.0" iyy="0.0" iyz="0.0" izz="0.0"/>
    </inertial>
  </link>
  <link name="GasMed_LF">
    <inertial>
      <origin xyz="0.0 0.0 0.0" rpy="0.0 0.0 0.0"/>
      <mass value="0.0"/>
      <inertia ixx="0.0" ixy="0.0" ixz="0.0" iyy="0.0" iyz="0.0" izz="0.0"/>
    </inertial>
  </link>
  <joint name="jL5S1_rotx" type="revolute">
    <dynamics damping="0.1" friction="0.0"/>
    <limit effort="30.0" velocity="1.0" lower="-0.610865" upper="0.610865"/>
    <parent link="Pelvis"/>
    <child link="LowerTrunk_f1"/>
    <axis xyz="1. 0. 0."/>
    <origin xyz="0.0 0.0 0.06434999999999999" rpy="0.0 0.0 0.0"/>
  </joint>
  <joint name="jL5S1_roty" type="revolute">
    <dynamics damping="0.1" friction="0.0"/>
    <limit effort="30.0" velocity="1.0" lower="-0.523599" upper="1.309"/>
    <parent link="LowerTrunk_f1"/>
    <child link="LowerTrunk"/>
    <axis xyz="0. 1. 0."/>
    <origin xyz="0.0 0.0 0.0" rpy="0.0 0.0 0.0"/>
  </joint>
  <joint name="jT9T8_rotx" type="revolute">
    <dynamics damping="0.1" friction="0.0"/>
    <limit effort="30.0" velocity="1.0" lower="-0.349066" upper="0.349066"/>
    <parent link="LowerTrunk"/>
    <child link="UpperTrunk_f1"/>
    <axis xyz="1. 0. 0."/>
    <origin xyz="0.0 0.0 0.165" rpy="0.0 0.0 0.0"/>
  </joint>
  <joint name="jT9T8_roty" type="revolute">
    <dynamics damping="0.1" friction="0.0"/>
    <limit effort="30.0" velocity="1.0" lower="-0.261799" upper="0.698132"/>
    <parent link="UpperTrunk_f1"/>
    <child link="UpperTrunk_f2"/>
    <axis xyz="0. 1. 0."/>
    <origin xyz="0.0 0.0 0.0" rpy="0.0 0.0 0.0"/>
  </joint>
  <joint name="jT9T8_rotz" type="revolute">
    <dynamics damping="0.1" friction="0.0"/>
    <limit effort="30.0" velocity="1.0" lower="-0.610865" upper="0.610865"/>
    <parent link="UpperTrunk_f2"/>
    <child link="UpperTrunk"/>
    <axis xyz="0. 0. 1."/>
    <origin xyz="0.0 0.0 0.0" rpy="0.0 0.0 0.0"/>
  </joint>
  <joint name="jC7RightShoulder_rotx" type="revolute">
    <dynamics damping="0.1" friction="0.0"/>
    <limit effort="30.0" velocity="1.0" lower="-0.785398" upper="0.0872665"/>
    <parent link="UpperTrunk"/>
    <child link="RightShoulder"/>
    <axis xyz="1. 0. 0."/>
    <origin xyz="0.0 -0.071225 0.1365" rpy="0.0 0.0 0.0"/>
  </joint>
  <joint name="jC7LeftShoulder_rotx" type="revolute">
    <dynamics damping="0.1" friction="0.0"/>
    <limit effort="30.0" velocity="1.0" lower="-0.0872665" upper="0.785398"/>
    <parent link="UpperTrunk"/>
    <child link="LeftShoulder"/>
    <axis xyz="1. 0. 0."/>
    <origin xyz="0.0 0.071225 0.1365" rpy="0.0 0.0 0.0"/>
  </joint>
  <joint name="jT1C7_rotx" type="revolute">
    <dynamics damping="0.1" friction="0.0"/>
    <limit effort="30.0" velocity="1.0" lower="-0.610865" upper="0.610865"/>
    <parent link="UpperTrunk"/>
    <child link="Neck_f1"/>
    <axis xyz="1. 0. 0."/>
    <origin xyz="0.0 0.0 0.1815" rpy="0.0 0.0 0.0"/>
  </joint>
  <joint name="jT1C7_roty" type="revolute">
    <dynamics damping="0.1" friction="0.0"/>
    <limit effort="30.0" velocity="1.0" lower="-0.959931" upper="1.5708"/>
    <parent link="Neck_f1"/>
    <child link="Neck_f2"/>
    <axis xyz="0. 1. 0."/>
    <origin xyz="0.0 0.0 0.0" rpy="0.0 0.0 0.0"/>
  </joint>
  <joint name="jT1C7_rotz" type="revolute">
    <dynamics damping="0.1" friction="0.0"/>
    <limit effort="30.0" velocity="1.0" lower="-1.22173" upper="1.22173"/>
    <parent link="Neck_f2"/>
    <child link="Neck"/>
    <axis xyz="0. 0. 1."/>
    <origin xyz="0.0 0.0 0.0" rpy="0.0 0.0 0.0"/>
  </joint>
  <joint name="jC1Head_rotx" type="revolute">
    <dynamics damping="0.1" friction="0.0"/>
    <limit effort="30.0" velocity="1.0" lower="-0.610865" upper="0.610865"/>
    <parent link="Neck"/>
    <child link="Head_f1"/>
    <axis xyz="1. 0. 0."/>
    <origin xyz="0.0 0.0 0.08579999999999999" rpy="0.0 0.0 0.0"/>
  </joint>
  <joint name="jC1Head_roty" type="revolute">
    <dynamics damping="0.1" friction="0.0"/>
    <limit effort="30.0" velocity="1.0" lower="-0.436332" upper="0.174533"/>
    <parent link="Head_f1"/>
    <child link="Head"/>
    <axis xyz="0. 1. 0."/>
    <origin xyz="0.0 0.0 0.0" rpy="0.0 0.0 0.0"/>
  </joint>
  <joint name="jRightShoulder_rotx" type="revolute">
    <dynamics damping="0.1" friction="0.0"/>
    <limit effort="30.0" velocity="1.0" lower="-0.8727" upper="0.8727"/>
    <parent link="RightShoulder"/>
    <child link="RightShoulder_f1"/>
    <axis xyz="1. 0. 0."/>
    <origin xyz="0.0 -0.14245 0.0" rpy="0.0 0.0 0.0"/>
  </joint>
  <joint name="jRightShoulder_roty" type="revolute">
    <dynamics damping="0.1" friction="0.0"/>
    <limit effort="30.0" velocity="1.0" lower="-0.8727" upper="0.8727"/>
    <parent link="RightShoulder_f1"/>
    <child link="RightShoulder_f2"/>
    <axis xyz="0. 1. 0."/>
    <origin xyz="0.0 0.0 0.0" rpy="0.0 0.0 0.0"/>
  </joint>
  <joint name="jRightShoulder_rotz" type="revolute">
    <dynamics damping="0.1" friction="0.0"/>
    <limit effort="30.0" velocity="1.0" lower="-0.8727" upper="0.8727"/>
    <parent link="RightShoulder_f2"/>
    <child link="RightUpperArm"/>
    <axis xyz="0. 0. 1."/>
    <origin xyz="0.0 0.0 0.0" rpy="0.0 0.0 0.0"/>
  </joint>
  <joint name="jRightElbow_roty" type="revolute">
    <dynamics damping="0.1" friction="0.0"/>
    <limit effort="30.0" velocity="1.0" lower="-1.5708" upper="1.48353"/>
    <parent link="RightUpperArm"/>
    <child link="RightForeArm_f1"/>
    <axis xyz="0. 1. 0."/>
    <origin xyz="0.0 -0.3069 0.0" rpy="0.0 0.0 0.0"/>
  </joint>
  <joint name="jRightElbow_rotz" type="revolute">
    <dynamics damping="0.1" friction="0.0"/>
    <limit effort="30.0" velocity="1.0" lower="0.0" upper="2.53073"/>
    <parent link="RightForeArm_f1"/>
    <child link="RightForeArm"/>
    <axis xyz="0. 0. 1."/>
    <origin xyz="0.0 0.0 0.0" rpy="0.0 0.0 0.0"/>
  </joint>
  <joint name="jRightWrist_rotx" type="revolute">
    <dynamics damping="0.1" friction="0.0"/>
    <limit effort="30.0" velocity="1.0" lower="-0.872665" upper="1.0472"/>
    <parent link="RightForeArm"/>
    <child link="RightHand_f1"/>
    <axis xyz="1. 0. 0."/>
    <origin xyz="0.0 -0.24089999999999998 0.0" rpy="0.0 0.0 0.0"/>
  </joint>
  <joint name="jRightWrist_rotz" type="revolute">
    <dynamics damping="0.1" friction="0.0"/>
    <limit effort="30.0" velocity="1.0" lower="-0.523599" upper="0.349066"/>
    <parent link="RightHand_f1"/>
    <child link="RightHand"/>
    <axis xyz="0. 0. 1."/>
    <origin xyz="0.0 0.0 0.0" rpy="0.0 0.0 0.0"/>
  </joint>
  <joint name="jRightHandCOM" type="fixed">
    <parent link="RightHand"/>
    <child link="RightHandCOM"/>
    <axis xyz="1. 0. 0."/>
    <origin xyz="0.0 -0.0891 0.0" rpy="0.0 0.0 0.0"/>
  </joint>
  <joint name="jLeftShoulder_rotx" type="revolute">
    <dynamics damping="0.1" friction="0.0"/>
    <limit effort="30.0" velocity="1.0" lower="-0.8727" upper="0.8727"/>
    <parent link="LeftShoulder"/>
    <child link="LeftShoulder_f1"/>
    <axis xyz="1. 0. 0."/>
    <origin xyz="0.0 0.14245 0.0" rpy="0.0 0.0 0.0"/>
  </joint>
  <joint name="jLeftShoulder_roty" type="revolute">
    <dynamics damping="0.1" friction="0.0"/>
    <limit effort="30.0" velocity="1.0" lower="-0.8727" upper="0.8727"/>
    <parent link="LeftShoulder_f1"/>
    <child link="LeftShoulder_f2"/>
    <axis xyz="0. 1. 0."/>
    <origin xyz="0.0 0.0 0.0" rpy="0.0 0.0 0.0"/>
  </joint>
  <joint name="jLeftShoulder_rotz" type="revolute">
    <dynamics damping="0.1" friction="0.0"/>
    <limit effort="30.0" velocity="1.0" lower="-0.8727" upper="0.8727"/>
    <parent link="LeftShoulder_f2"/>
    <child link="LeftUpperArm"/>
    <axis xyz="0. 0. 1."/>
    <origin xyz="0.0 0.0 0.0" rpy="0.0 0.0 0.0"/>
  </joint>
  <joint name="jLeftElbow_roty" type="revolute">
    <dynamics damping="0.1" friction="0.0"/>
    <limit effort="30.0" velocity="1.0" lower="-1.5708" upper="1.48353"/>
    <parent link="LeftUpperArm"/>
    <child link="LeftForeArm_f1"/>
    <axis xyz="0. 1. 0."/>
    <origin xyz="0.0 0.3069 0.0" rpy="0.0 0.0 0.0"/>
  </joint>
  <joint name="jLeftElbow_rotz" type="revolute">
    <dynamics damping="0.1" friction="0.0"/>
    <limit effort="30.0" velocity="1.0" lower="-2.53073" upper="0.0"/>
    <parent link="LeftForeArm_f1"/>
    <child link="LeftForeArm"/>
    <axis xyz="0. 0. 1."/>
    <origin xyz="0.0 0.0 0.0" rpy="0.0 0.0 0.0"/>
  </joint>
  <joint name="jLeftWrist_rotx" type="revolute">
    <dynamics damping="0.1" friction="0.0"/>
    <limit effort="30.0" velocity="1.0" lower="-1.0472" upper="0.872665"/>
    <parent link="LeftForeArm"/>
    <child link="LeftHand_f1"/>
    <axis xyz="1. 0. 0."/>
    <origin xyz="0.0 0.24089999999999998 0.0" rpy="0.0 0.0 0.0"/>
  </joint>
  <joint name="jLeftWrist_rotz" type="revolute">
    <dynamics damping="0.1" friction="0.0"/>
    <limit effort="30.0" velocity="1.0" lower="-0.349066" upper="0.523599"/>
    <parent link="LeftHand_f1"/>
    <child link="LeftHand"/>
    <axis xyz="0. 0. 1."/>
    <origin xyz="0.0 0.0 0.0" rpy="0.0 0.0 0.0"/>
  </joint>
  <joint name="jLeftHandCOM" type="fixed">
    <parent link="LeftHand"/>
    <child link="LeftHandCOM"/>
    <axis xyz="1. 0. 0."/>
    <origin xyz="0.0 0.0891 0.0" rpy="0.0 0.0 0.0"/>
  </joint>
  <joint name="jRightHip_rotx" type="revolute">
    <dynamics damping="0.1" friction="0.0"/>
    <limit effort="30.0" velocity="1.0" lower="-0.785398" upper="0.523599"/>
    <parent link="Pelvis"/>
    <child link="RightUpperLeg_f1"/>
    <axis xyz="1. 0. 0."/>
    <origin xyz="0.0 -0.082575 -0.06434999999999999" rpy="0.0 0.0 0.0"/>
  </joint>
  <joint name="jRightHip_roty" type="revolute">
    <dynamics damping="0.1" friction="0.0"/>
    <limit effort="30.0" velocity="1.0" lower="-2.0944" upper="0.261799"/>
    <parent link="RightUpperLeg_f1"/>
    <child link="RightUpperLeg_f2"/>
    <axis xyz="0. 1. 0."/>
    <origin xyz="0.0 0.0 0.0" rpy="0.0 0.0 0.0"/>
  </joint>
  <joint name="jRightHip_rotz" type="revolute">
    <dynamics damping="0.1" friction="0.0"/>
    <limit effort="30.0" velocity="1.0" lower="-0.785398" upper="0.785398"/>
    <parent link="RightUpperLeg_f2"/>
    <child link="RightUpperLeg"/>
    <axis xyz="0. 0. 1."/>
    <origin xyz="0.0 0.0 0.0" rpy="0.0 0.0 0.0"/>
  </joint>
  <joint name="jRightKnee_roty" type="revolute">
    <dynamics damping="0.1" friction="0.0"/>
    <limit effort="30.0" velocity="1.0" lower="0.0" upper="2.35619"/>
    <parent link="RightUpperLeg"/>
    <child link="RightLowerLeg_f1"/>
    <axis xyz="0. 1. 0."/>
    <origin xyz="0.0 0.0 -0.40425" rpy="0.0 0.0 0.0"/>
  </joint>
  <joint name="jRightKnee_rotz" type="revolute">
    <dynamics damping="0.1" friction="0.0"/>
    <limit effort="30.0" velocity="1.0" lower="-0.698132" upper="0.523599"/>
    <parent link="RightLowerLeg_f1"/>
    <child link="RightLowerLeg"/>
    <axis xyz="0. 0. 1."/>
    <origin xyz="0.0 0.0 0.0" rpy="0.0 0.0 0.0"/>
  </joint>
  <joint name="jRightAnkle_rotx" type="revolute">
    <dynamics damping="0.1" friction="0.0"/>
    <limit effort="30.0" velocity="1.0" lower="-0.610865" upper="0.785398"/>
    <parent link="RightLowerLeg"/>
    <child link="RightFoot_f1"/>
    <axis xyz="1. 0. 0."/>
    <origin xyz="0.0 0.0 -0.4059" rpy="0.0 0.0 0.0"/>
  </joint>
  <joint name="jRightAnkle_roty" type="revolute">
    <dynamics damping="0.1" friction="0.0"/>
    <limit effort="30.0" velocity="1.0" lower="-0.523599" upper="0.872665"/>
    <parent link="RightFoot_f1"/>
    <child link="RightFoot_f2"/>
    <axis xyz="0. 1. 0."/>
    <origin xyz="0.0 0.0 0.0" rpy="0.0 0.0 0.0"/>
  </joint>
  <joint name="jRightAnkle_rotz" type="revolute">
    <dynamics damping="0.1" friction="0.0"/>
    <limit effort="30.0" velocity="1.0" lower="-0.436332" upper="0.872665"/>
    <parent link="RightFoot_f2"/>
    <child link="RightFoot"/>
    <axis xyz="0. 0. 1."/>
    <origin xyz="0.0 0.0 0.0" rpy="0.0 0.0 0.0"/>
  </joint>
  <joint name="jRightBallFoot_roty" type="revolute">
    <dynamics damping="0.1" friction="0.0"/>
    <limit effort="30.0" velocity="1.0" lower="-0.174533" upper="1.5708"/>
    <parent link="RightFoot"/>
    <child link="RightToe"/>
    <axis xyz="0. 1. 0."/>
    <origin xyz="0.19455399999999998 0.0 -0.032174999999999995" rpy="0.0 0.0 0.0"/>
  </joint>
  <joint name="jRightBirken_roty" type="fixed">
    <dynamics damping="0.1" friction="0.0"/>
    <limit effort="30.0" velocity="1.0" lower="-0.174533" upper="1.5708"/>
    <parent link="RightFoot"/>
    <child link="RightFTSensor"/>
    <axis xyz="0. 1. 0."/>
    <origin xyz="0.037 0.0 -0.11934999999999998" rpy="0.0 0.0 0.0"/>
  </joint>
  <joint name="jLeftHip_rotx" type="revolute">
    <dynamics damping="0.1" friction="0.0"/>
    <limit effort="30.0" velocity="1.0" lower="-0.523599" upper="0.785398"/>
    <parent link="Pelvis"/>
    <child link="LeftUpperLeg_f1"/>
    <axis xyz="1. 0. 0."/>
    <origin xyz="0.0 0.082575 -0.06434999999999999" rpy="0.0 0.0 0.0"/>
  </joint>
  <joint name="jLeftHip_roty" type="revolute">
    <dynamics damping="0.1" friction="0.0"/>
    <limit effort="30.0" velocity="1.0" lower="-2.0944" upper="0.261799"/>
    <parent link="LeftUpperLeg_f1"/>
    <child link="LeftUpperLeg_f2"/>
    <axis xyz="0. 1. 0."/>
    <origin xyz="0.0 0.0 0.0" rpy="0.0 0.0 0.0"/>
  </joint>
  <joint name="jLeftHip_rotz" type="revolute">
    <dynamics damping="0.1" friction="0.0"/>
    <limit effort="30.0" velocity="1.0" lower="-0.785398" upper="0.785398"/>
    <parent link="LeftUpperLeg_f2"/>
    <child link="LeftUpperLeg"/>
    <axis xyz="0. 0. 1."/>
    <origin xyz="0.0 0.0 0.0" rpy="0.0 0.0 0.0"/>
  </joint>
  <joint name="jLeftKnee_roty" type="revolute">
    <dynamics damping="0.1" friction="0.0"/>
    <limit effort="30.0" velocity="1.0" lower="0.0" upper="2.35619"/>
    <parent link="LeftUpperLeg"/>
    <child link="LeftLowerLeg_f1"/>
    <axis xyz="0. 1. 0."/>
    <origin xyz="0.0 0.0 -0.40425" rpy="0.0 0.0 0.0"/>
  </joint>
  <joint name="jLeftKnee_rotz" type="revolute">
    <dynamics damping="0.1" friction="0.0"/>
    <limit effort="30.0" velocity="1.0" lower="-0.523599" upper="0.698132"/>
    <parent link="LeftLowerLeg_f1"/>
    <child link="LeftLowerLeg"/>
    <axis xyz="0. 0. 1."/>
    <origin xyz="0.0 0.0 0.0" rpy="0.0 0.0 0.0"/>
  </joint>
  <joint name="jLeftAnkle_rotx" type="revolute">
    <dynamics damping="0.1" friction="0.0"/>
    <limit effort="30.0" velocity="1.0" lower="-0.785398" upper="0.610865"/>
    <parent link="LeftLowerLeg"/>
    <child link="LeftFoot_f1"/>
    <axis xyz="1. 0. 0."/>
    <origin xyz="0.0 0.0 -0.4059" rpy="0.0 0.0 0.0"/>
  </joint>
  <joint name="jLeftAnkle_roty" type="revolute">
    <dynamics damping="0.1" friction="0.0"/>
    <limit effort="30.0" velocity="1.0" lower="-0.523599" upper="0.872665"/>
    <parent link="LeftFoot_f1"/>
    <child link="LeftFoot_f2"/>
    <axis xyz="0. 1. 0."/>
    <origin xyz="0.0 0.0 0.0" rpy="0.0 0.0 0.0"/>
  </joint>
  <joint name="jLeftAnkle_rotz" type="revolute">
    <dynamics damping="0.1" friction="0.0"/>
    <limit effort="30.0" velocity="1.0" lower="-0.872665" upper="0.436332"/>
    <parent link="LeftFoot_f2"/>
    <child link="LeftFoot"/>
    <axis xyz="0. 0. 1."/>
    <origin xyz="0.0 0.0 0.0" rpy="0.0 0.0 0.0"/>
  </joint>
  <joint name="jLeftBallFoot_roty" type="revolute">
    <dynamics damping="0.1" friction="0.0"/>
    <limit effort="30.0" velocity="1.0" lower="-0.174533" upper="1.5708"/>
    <parent link="LeftFoot"/>
    <child link="LeftToe"/>
    <axis xyz="0. 1. 0."/>
    <origin xyz="0.19455399999999998 0.0 -0.032174999999999995" rpy="0.0 0.0 0.0"/>
  </joint>
  <joint name="jLeftBirken_roty" type="fixed">
    <dynamics damping="0.1" friction="0.0"/>
    <limit effort="30.0" velocity="1.0" lower="-0.174533" upper="1.5708"/>
    <parent link="LeftFoot"/>
    <child link="LeftFTSensor"/>
    <axis xyz="0. 1. 0."/>
    <origin xyz="0.037 0.0 -0.11934999999999998" rpy="0.0 0.0 0.0"/>
  </joint>
  <joint name="jRightBicBrac_RUA" type="fixed">
    <parent link="RightUpperArm"/>
    <child link="BicBrac_RUA"/>
    <axis xyz="1. 0. 0."/>
    <origin xyz="-2.7554552980815448e-18 0.0 0.045" rpy="0.0 0.0 0.0"/>
  </joint>
  <joint name="jRightBicBrac_RFA" type="fixed">
    <parent link="RightForeArm"/>
    <child link="BicBrac_RFA"/>
    <axis xyz="1. 0. 0."/>
    <origin xyz="0.045 0.0 0.045" rpy="0.0 0.0 0.0"/>
  </joint>
  <joint name="jRightTricBrac_RUA" type="fixed">
    <parent link="RightUpperArm"/>
    <child link="TricBrac_RUA"/>
    <axis xyz="1. 0. 0."/>
    <origin xyz="-0.045 0.0 0.0" rpy="0.0 0.0 0.0"/>
  </joint>
  <joint name="jRightTricBrac_RFA" type="fixed">
    <parent link="RightForeArm"/>
    <child link="TricBrac_RFA"/>
    <axis xyz="1. 0. 0."/>
    <origin xyz="0.045 0.0 0.0" rpy="0.0 0.0 0.0"/>
  </joint>
  <joint name="jRightFlexCarp_RFA" type="fixed">
    <parent link="RightForeArm"/>
    <child link="FlexCarp_RFA"/>
    <axis xyz="1. 0. 0."/>
    <origin xyz="-0.045 0.0 0.0" rpy="0.0 0.0 0.0"/>
  </joint>
  <joint name="jRightFlexCarp_RH" type="fixed">
    <parent link="RightHand"/>
    <child link="FlexCarp_RH"/>
    <axis xyz="1. 0. 0."/>
    <origin xyz="0.016 -0.0891 0.0225" rpy="0.0 0.0 0.0"/>
  </joint>
  <joint name="jRightExtCarp_RFA" type="fixed">
    <parent link="RightForeArm"/>
    <child link="ExtCarp_RFA"/>
    <axis xyz="1. 0. 0."/>
    <origin xyz="0.045 0.0 5.5109105961630896e-18" rpy="0.0 0.0 0.0"/>
  </joint>
  <joint name="jRightExtCarp_RH" type="fixed">
    <parent link="RightHand"/>
    <child link="ExtCarp_RH"/>
    <axis xyz="1. 0. 0."/>
    <origin xyz="0.016 -0.0891 -0.0225" rpy="0.0 0.0 0.0"/>
  </joint>
  <joint name="jLeftBicBrac_LUA" type="fixed">
    <parent link="LeftUpperArm"/>
    <child link="BicBrac_LUA"/>
    <axis xyz="1. 0. 0."/>
    <origin xyz="2.7554552980815448e-18 0.0 0.045" rpy="0.0 0.0 0.0"/>
  </joint>
  <joint name="jLeftBicBrac_LFA" type="fixed">
    <parent link="LeftForeArm"/>
    <child link="BicBrac_LFA"/>
    <axis xyz="1. 0. 0."/>
    <origin xyz="0.045 0.0 0.0" rpy="0.0 0.0 0.0"/>
  </joint>
  <joint name="jLeftTricBrac_LUA" type="fixed">
    <parent link="LeftUpperArm"/>
    <child link="TricBrac_LUA"/>
    <axis xyz="1. 0. 0."/>
    <origin xyz="0.045 0.0 5.5109105961630896e-18" rpy="0.0 0.0 0.0"/>
  </joint>
  <joint name="jLeftTricBrac_LFA" type="fixed">
    <parent link="LeftForeArm"/>
    <child link="TricBrac_LFA"/>
    <axis xyz="1. 0. 0."/>
    <origin xyz="0.045 0.0 5.5109105961630896e-18" rpy="0.0 0.0 0.0"/>
  </joint>
  <joint name="jLeftFlexCarp_LFA" type="fixed">
    <parent link="LeftForeArm"/>
    <child link="FlexCarp_LFA"/>
    <axis xyz="1. 0. 0."/>
    <origin xyz="-0.045 0.0 5.5109105961630896e-18" rpy="0.0 0.0 0.0"/>
  </joint>
  <joint name="jLeftFlexCarp_LH" type="fixed">
    <parent link="LeftHand"/>
    <child link="FlexCarp_LH"/>
    <axis xyz="1. 0. 0."/>
    <origin xyz="0.016 0.0891 0.0225" rpy="0.0 0.0 0.0"/>
  </joint>
  <joint name="jLeftExtCarp_LFA" type="fixed">
    <parent link="LeftForeArm"/>
    <child link="ExtCarp_LFA"/>
    <axis xyz="1. 0. 0."/>
    <origin xyz="-0.045 0.0 5.5109105961630896e-18" rpy="0.0 0.0 0.0"/>
  </joint>
  <joint name="jLeftExtCarp_LH" type="fixed">
    <parent link="LeftHand"/>
    <child link="ExtCarp_LH"/>
    <axis xyz="1. 0. 0."/>
    <origin xyz="0.016 0.0891 -0.0225" rpy="0.0 0.0 0.0"/>
  </joint>
  <joint name="jRightRecAbd_RUT" type="fixed">
    <parent link="UpperTrunk"/>
    <child link="RecAbd_RUT"/>
    <axis xyz="1. 0. 0."/>
    <origin xyz="0.15 -0.071225 0.0" rpy="0.0 0.0 0.0"/>
  </joint>
  <joint name="jRightRecAbd_RP" type="fixed">
    <parent link="Pelvis"/>
    <child link="RecAbd_RP"/>
    <axis xyz="1. 0. 0."/>
    <origin xyz="0.15 0.0 0.0" rpy="0.0 0.0 0.0"/>
  </joint>
  <joint name="jRightErSpin_RUT" type="fixed">
    <parent link="UpperTrunk"/>
    <child link="ErSpin_RUT"/>
    <axis xyz="1. 0. 0."/>
    <origin xyz="-0.15 -0.071225 0.1815" rpy="0.0 0.0 0.0"/>
  </joint>
  <joint name="jRightErSpin_RP" type="fixed">
    <parent link="Pelvis"/>
    <child link="ErSpin_RP"/>
    <axis xyz="1. 0. 0."/>
    <origin xyz="-0.15 0.0 0.0" rpy="0.0 0.0 0.0"/>
  </joint>
  <joint name="jLeftRecAbd_LUT" type="fixed">
    <parent link="UpperTrunk"/>
    <child link="RecAbd_LUT"/>
    <axis xyz="1. 0. 0."/>
    <origin xyz="0.15 0.071225 0.0" rpy="0.0 0.0 0.0"/>
  </joint>
  <joint name="jLeftRecAbd_LP" type="fixed">
    <parent link="Pelvis"/>
    <child link="RecAbd_LP"/>
    <axis xyz="1. 0. 0."/>
    <origin xyz="0.0 0.0 0.0" rpy="0.0 0.0 0.0"/>
  </joint>
  <joint name="jLeftErSpin_LUT" type="fixed">
    <parent link="UpperTrunk"/>
    <child link="ErSpin_LUT"/>
    <axis xyz="1. 0. 0."/>
    <origin xyz="-0.15 0.071225 0.1815" rpy="0.0 0.0 0.0"/>
  </joint>
  <joint name="jLeftErSpin_LP" type="fixed">
    <parent link="Pelvis"/>
    <child link="ErSpin_LP"/>
    <axis xyz="1. 0. 0."/>
    <origin xyz="-0.15 0.0 0.0" rpy="0.0 0.0 0.0"/>
  </joint>
  <joint name="jRightRecFem_RP" type="fixed">
    <parent link="Pelvis"/>
    <child link="RecFem_RLT"/>
    <axis xyz="1. 0. 0."/>
    <origin xyz="0.15 -0.10504999999999999 -0.06434999999999999" rpy="0.0 0.0 0.0"/>
  </joint>
  <joint name="jRightRecFem_RLL" type="fixed">
    <parent link="RightLowerLeg"/>
    <child link="RecFem_RLL"/>
    <axis xyz="1. 0. 0."/>
    <origin xyz="0.0575 -3.52085954754864e-18 0.0" rpy="0.0 0.0 0.0"/>
  </joint>
  <joint name="jRightBicFem_RUL" type="fixed">
    <parent link="RightUpperLeg"/>
    <child link="BicFem_RUL"/>
    <axis xyz="1. 0. 0."/>
    <origin xyz="-0.075 1.0562578642645921e-17 0.0" rpy="0.0 0.0 0.0"/>
  </joint>
  <joint name="jRightBicFem_RLL" type="fixed">
    <parent link="RightLowerLeg"/>
    <child link="BicFem_RLL"/>
    <axis xyz="1. 0. 0."/>
    <origin xyz="0.0 -0.0575 0.0" rpy="0.0 0.0 0.0"/>
  </joint>
  <joint name="jLeftRecFem_LP" type="fixed">
    <parent link="Pelvis"/>
    <child link="RecFem_LLT"/>
    <axis xyz="1. 0. 0."/>
    <origin xyz="0.15 0.10504999999999999 -0.06434999999999999" rpy="0.0 0.0 0.0"/>
  </joint>
  <joint name="jLeftRecFem_LLL" type="fixed">
    <parent link="LeftLowerLeg"/>
    <child link="RecFem_LLL"/>
    <axis xyz="1. 0. 0."/>
    <origin xyz="0.0575 -3.52085954754864e-18 0.0" rpy="0.0 0.0 0.0"/>
  </joint>
  <joint name="jLeftBicFem_LUL" type="fixed">
    <parent link="LeftUpperLeg"/>
    <child link="BicFem_LUL"/>
    <axis xyz="1. 0. 0."/>
    <origin xyz="-0.075 1.0562578642645921e-17 0.0" rpy="0.0 0.0 0.0"/>
  </joint>
  <joint name="jLeftBicFem_LLL" type="fixed">
    <parent link="LeftLowerLeg"/>
    <child link="BicFem_LLL"/>
    <axis xyz="1. 0. 0."/>
    <origin xyz="7.04171909509728e-18 0.0575 0.0" rpy="0.0 0.0 0.0"/>
  </joint>
  <joint name="jRightTibAnt_RLL" type="fixed">
    <parent link="RightLowerLeg"/>
    <child link="TibAnt_RLL"/>
    <axis xyz="1. 0. 0."/>
    <origin xyz="0.0575 -3.52085954754864e-18 0.0" rpy="0.0 0.0 0.0"/>
  </joint>
  <joint name="jRightTibAnt_RF" type="fixed">
    <parent link="RightFoot"/>
    <child link="TibAnt_RF"/>
    <axis xyz="1. 0. 0."/>
    <origin xyz="0.12539999999999998 0.045375 0.0" rpy="0.0 0.0 0.0"/>
  </joint>
  <joint name="jRightGasLat_RUL" type="fixed">
    <parent link="RightUpperLeg"/>
    <child link="GasLat_RUL"/>
    <axis xyz="1. 0. 0."/>
    <origin xyz="-0.06495190528383289 -0.028750000000000008 -0.40425" rpy="0.0 0.0 0.0"/>
  </joint>
  <joint name="jRightGasLat_RF" type="fixed">
    <parent link="RightFoot"/>
    <child link="GasLat_RF"/>
    <axis xyz="1. 0. 0."/>
    <origin xyz="-0.0575 0.0 -0.032174999999999995" rpy="0.0 0.0 0.0"/>
  </joint>
  <joint name="jRightGasMed_RUL" type="fixed">
    <parent link="RightUpperLeg"/>
    <child link="GasMed_RUL"/>
    <axis xyz="1. 0. 0."/>
    <origin xyz="-0.06495190528383288 0.028750000000000026 -0.40425" rpy="0.0 0.0 0.0"/>
  </joint>
  <joint name="jRightGasMed_RF" type="fixed">
    <parent link="RightFoot"/>
    <child link="GasMed_RF"/>
    <axis xyz="1. 0. 0."/>
    <origin xyz="-0.0575 0.0 -0.032174999999999995" rpy="0.0 0.0 0.0"/>
  </joint>
  <joint name="jLeftTibAnt_LLL" type="fixed">
    <parent link="LeftLowerLeg"/>
    <child link="TibAnt_LLL"/>
    <axis xyz="1. 0. 0."/>
    <origin xyz="0.0575 -3.52085954754864e-18 0.0" rpy="0.0 0.0 0.0"/>
  </joint>
  <joint name="jLeftTibAnt_LF" type="fixed">
    <parent link="LeftFoot"/>
    <child link="TibAnt_LF"/>
    <axis xyz="1. 0. 0."/>
    <origin xyz="0.12539999999999998 -0.045375 0.0" rpy="0.0 0.0 0.0"/>
  </joint>
  <joint name="jLeftGasLat_LUL" type="fixed">
    <parent link="LeftUpperLeg"/>
    <child link="GasLat_LUL"/>
    <axis xyz="1. 0. 0."/>
    <origin xyz="-0.06495190528383288 0.028750000000000026 -0.40425" rpy="0.0 0.0 0.0"/>
  </joint>
  <joint name="jLeftGasLat_LF" type="fixed">
    <parent link="LeftFoot"/>
    <child link="GasLat_LF"/>
    <axis xyz="1. 0. 0."/>
    <origin xyz="-0.0575 0.0 -0.032174999999999995" rpy="0.0 0.0 0.0"/>
  </joint>
  <joint name="jLeftGasMed_LUL" type="fixed">
    <parent link="LeftUpperLeg"/>
    <child link="GasMed_LUL"/>
    <axis xyz="1. 0. 0."/>
    <origin xyz="-0.06495190528383289 -0.028750000000000008 -0.40425" rpy="0.0 0.0 0.0"/>
  </joint>
  <joint name="jLeftGasMed_LF" type="fixed">
    <parent link="LeftFoot"/>
    <child link="GasMed_LF"/>
    <axis xyz="1. 0. 0."/>
    <origin xyz="-0.0575 0.0 -0.032174999999999995" rpy="0.0 0.0 0.0"/>
  </joint>
  <material name="color">
    <color rgba="0.9922 0.8667 0.7922 1.    "/>
  </material>
</robot>
